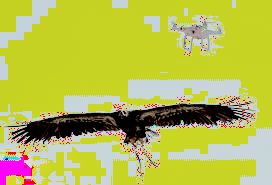Bird: (2, 94, 258, 175)
Drone: (166, 15, 224, 53)
